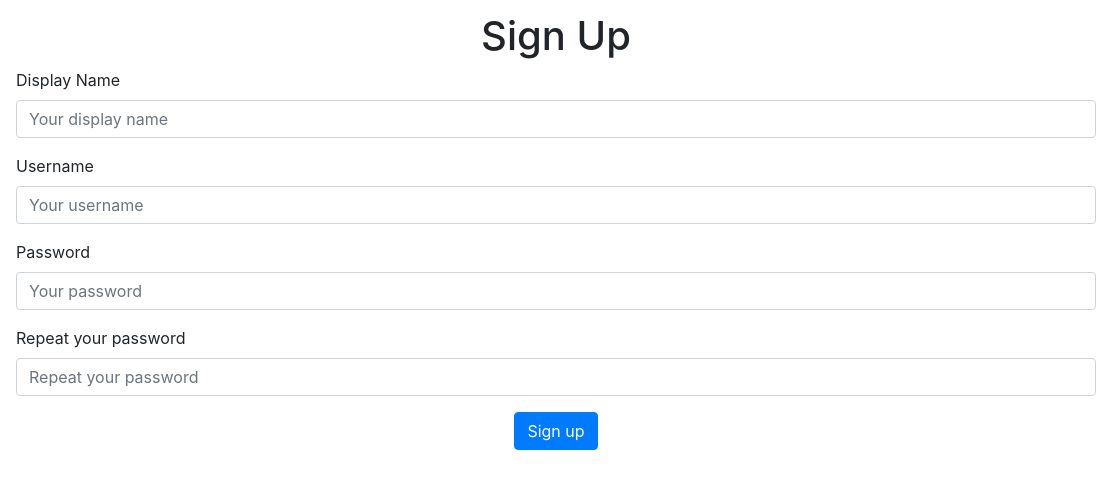
Test case: UserSignupPage › Interactions › displays error for display name when error is received for the field
Type "display-name" into the field with placeholder "Your display name" at point(556, 119), box [16,100,1096,138]
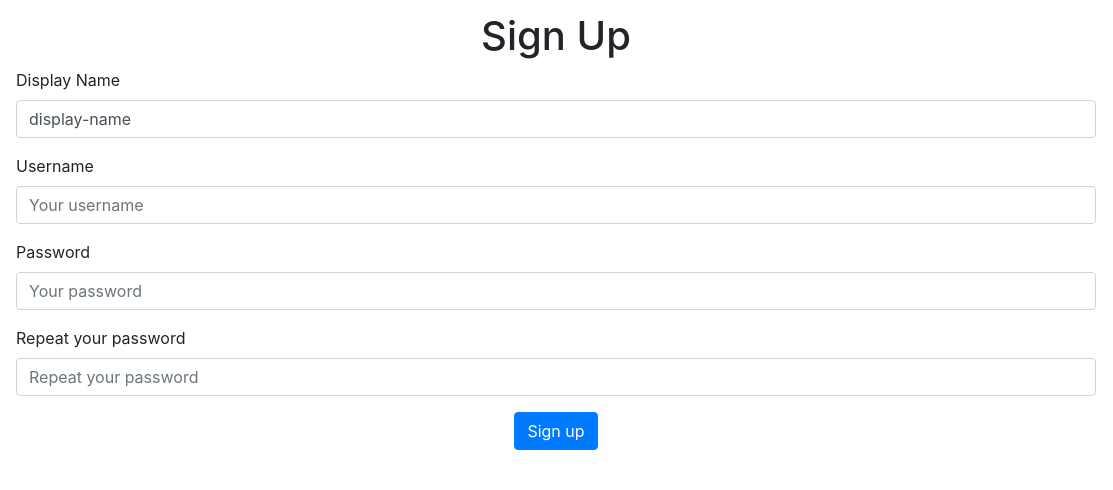
Type "username" into the field with placeholder "Your username" at point(556, 205), box [16,186,1096,224]
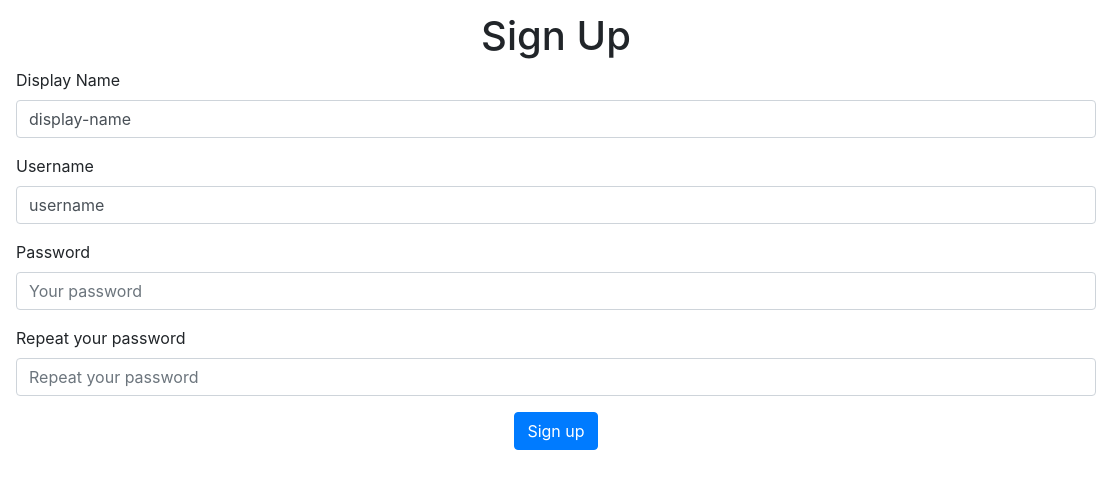
Type "password" into the password field with placeholder "Your password" at point(556, 291), box [16,272,1096,310]
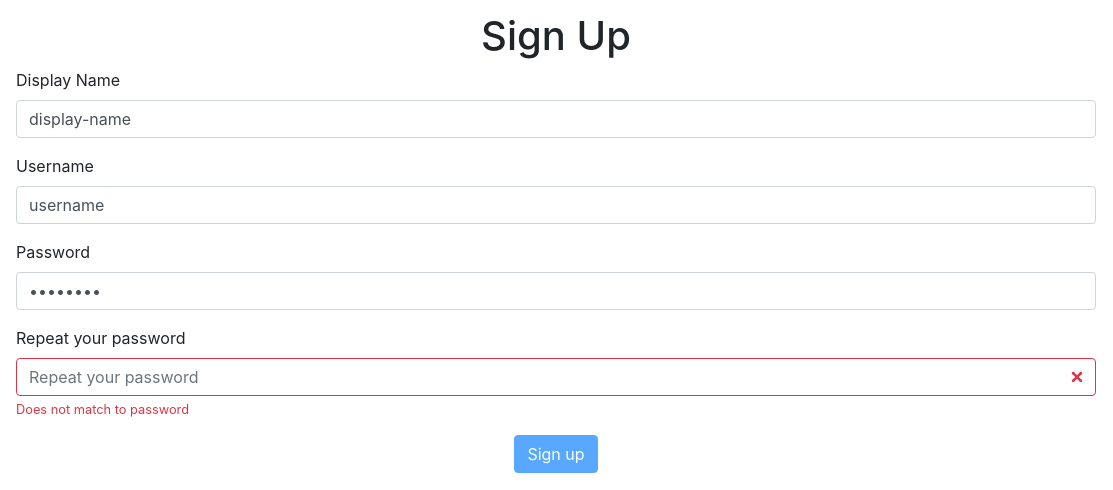
Type "password" into the password field with placeholder "Repeat your password" at point(556, 377), box [16,358,1096,396]
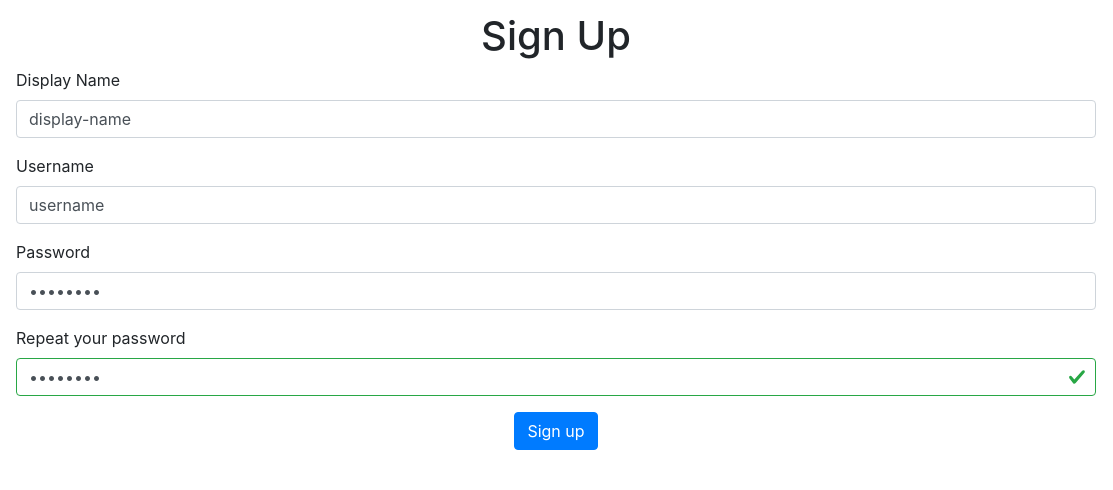
Click the button "Sign up" at point(556, 431), box [514,412,598,450]
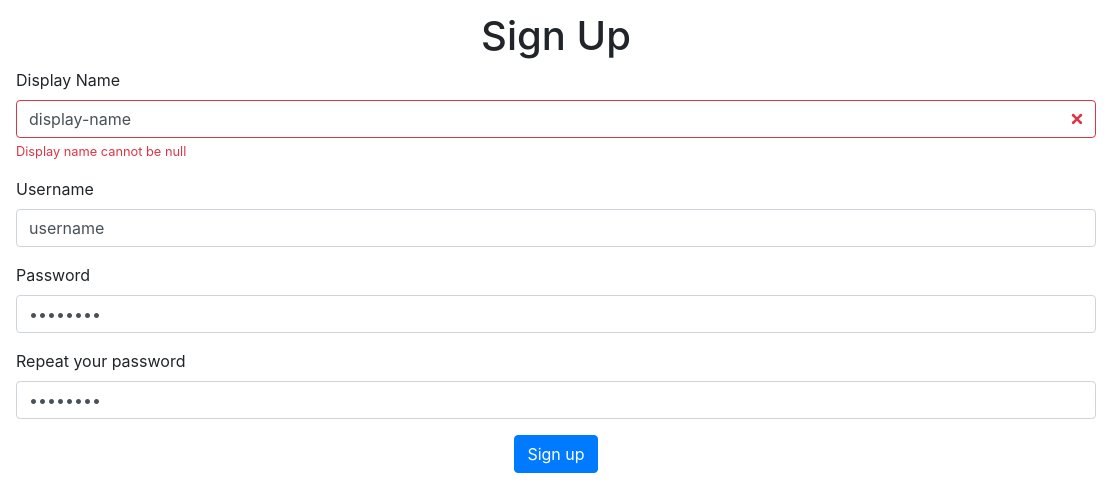
expect the text "Display name cannot be null" is shown: met, box [16,144,186,159]
